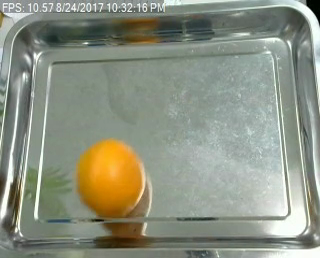Orange: (76, 138, 145, 217)
